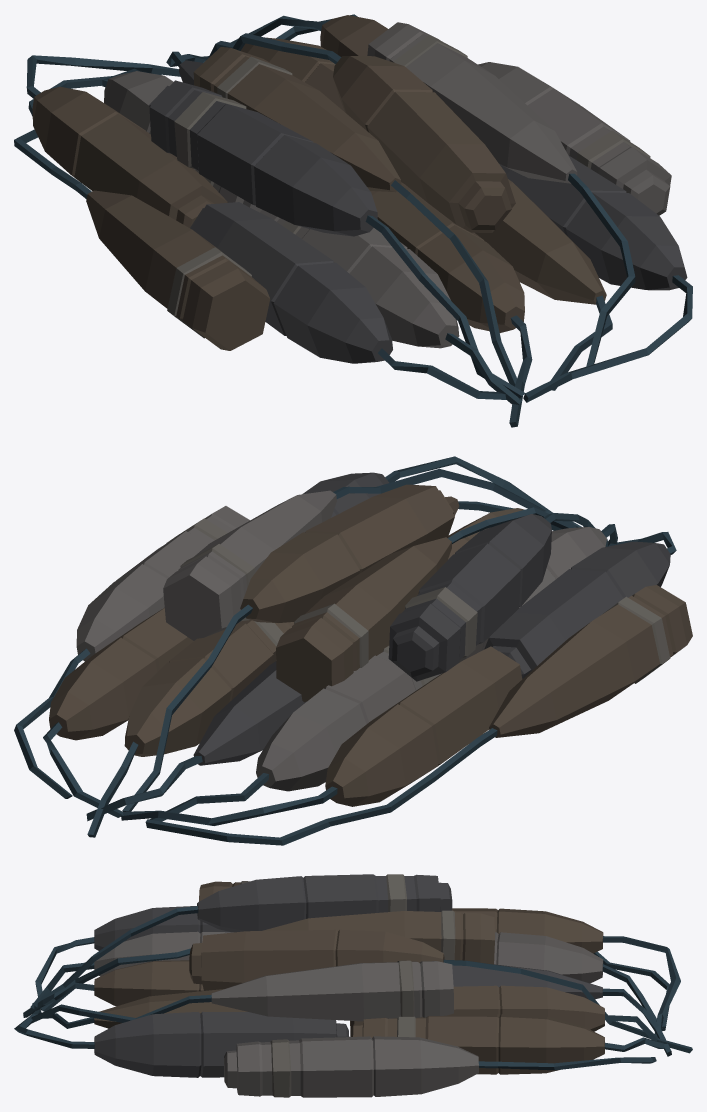
Rendered from SM_Prop_IED_Pile_01.fbx.
3 views of the same model, one above another, from view 1: azimuth 30°, elevation 25°; view 2: azimuth 150°, elevation 25°; view 3: azimuth 270°, elevation 25° (orthographic). The views are drawn at different scales.
Parts seen in each view (by area): view 1: SM_Prop_IED_Pile_01; view 2: SM_Prop_IED_Pile_01; view 3: SM_Prop_IED_Pile_01.
Boxes of the visible parts, bbox=[...] form: SM_Prop_IED_Pile_01: bbox=[14, 14, 692, 427]; SM_Prop_IED_Pile_01: bbox=[14, 456, 692, 845]; SM_Prop_IED_Pile_01: bbox=[14, 874, 692, 1097].
Size of the model in its own units: 107 by 34.58 by 169.
